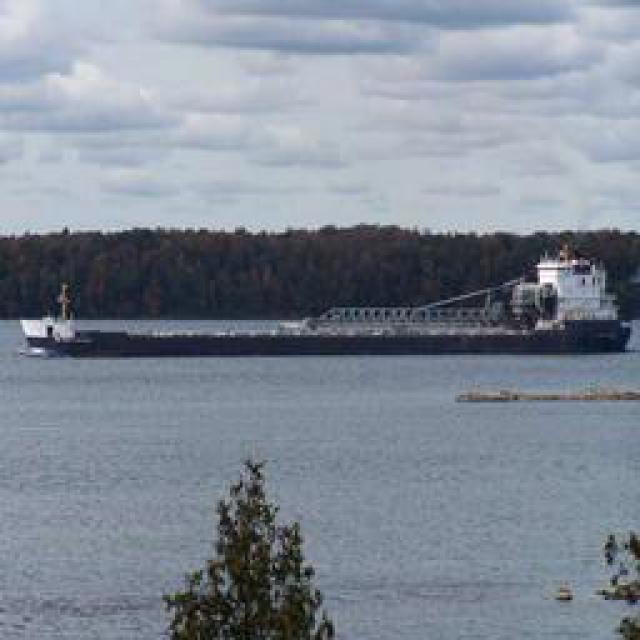Ship: (15, 277, 628, 357)
